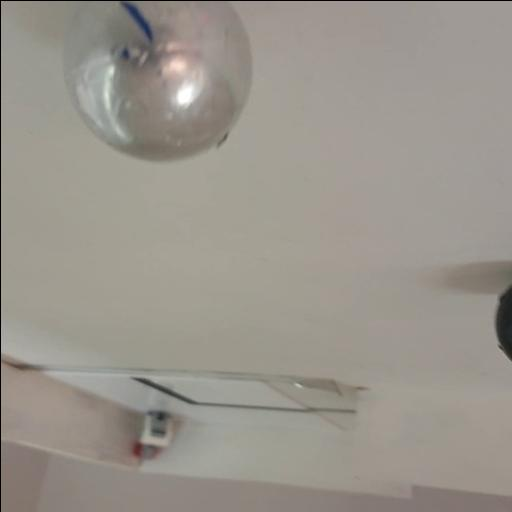alive: (60, 0, 254, 166)
dead: (492, 272, 512, 368)
